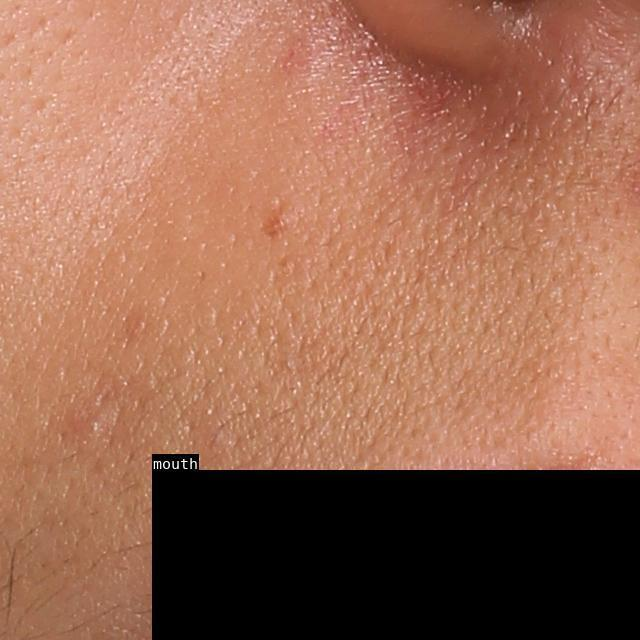nevus: (259, 213, 288, 241)
